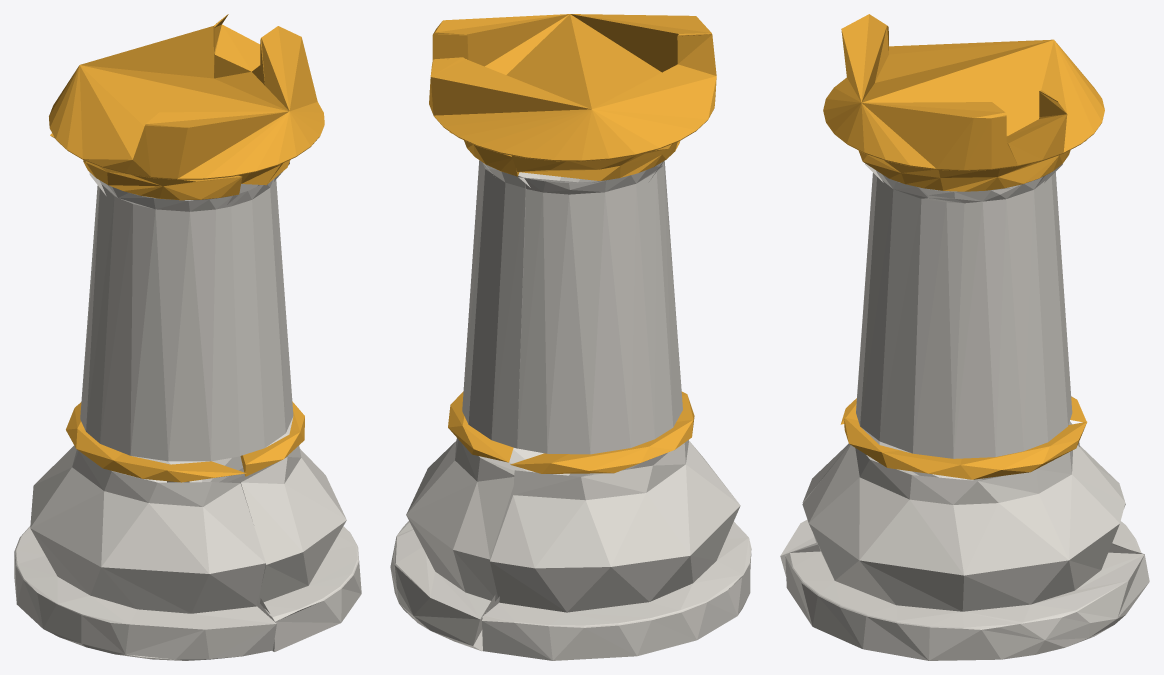
Rendered from rook.glb.
3 renders of one model, left to right at view 1: azimuth 30°, elevation 25°; view 2: azimuth 150°, elevation 25°; view 3: azimuth 270°, elevation 25°, orthographic. The views are drawn at different scales.
Parts seen in each view (by area): view 1: body, accent; view 2: body, accent; view 3: body, accent.
Part boxes in pixels (<box>): body: <box>14,162,361,660</box>; accent: <box>49,14,324,482</box>; body: <box>390,160,751,660</box>; accent: <box>429,14,716,473</box>; body: <box>780,163,1149,660</box>; accent: <box>823,14,1104,479</box>.
Bounding box in the file's own units: 0.3455 × 0.5706 × 0.3601.
